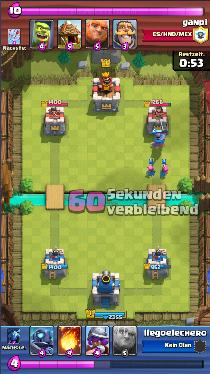ally_archer: (146, 165, 156, 175), (160, 165, 169, 176)
ally_knight: (150, 132, 169, 147)
